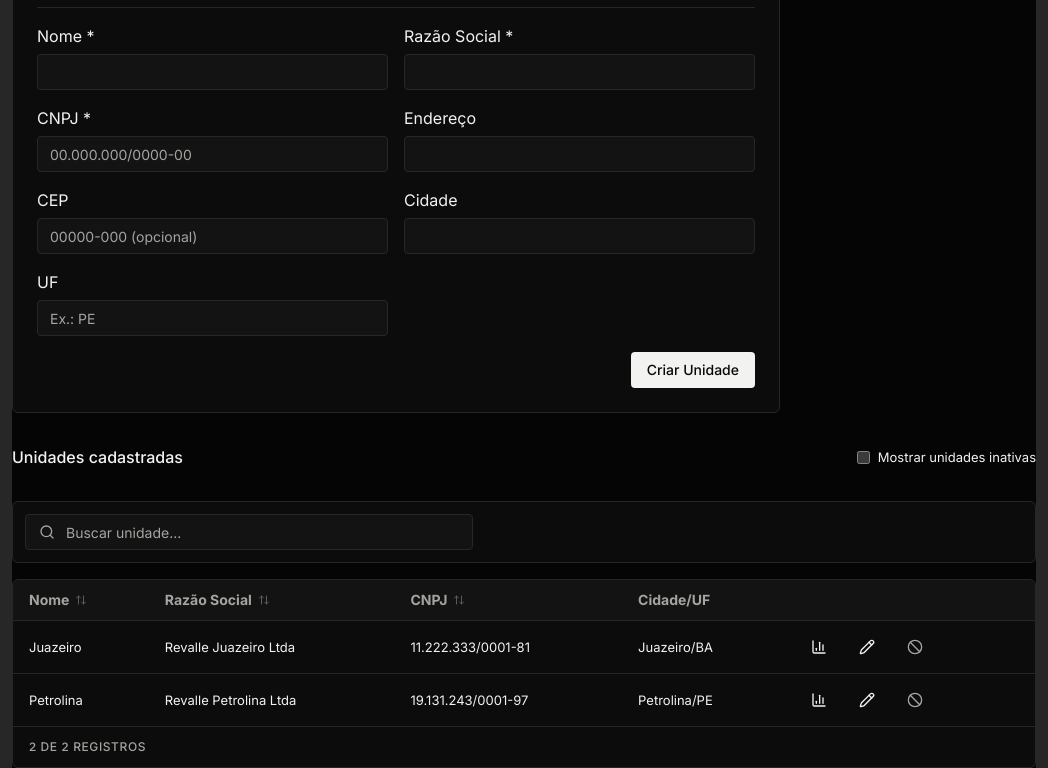
UnidadesPage — indicadores › unidade sem nenhuma movimentação mostra os indicadores zerados sem parecer erro
(page scrolled)
Click the button named "Indicadores da unidade Petrolina": click(818, 700) x1=798 y1=684 x2=838 y2=716
(page scrolled)
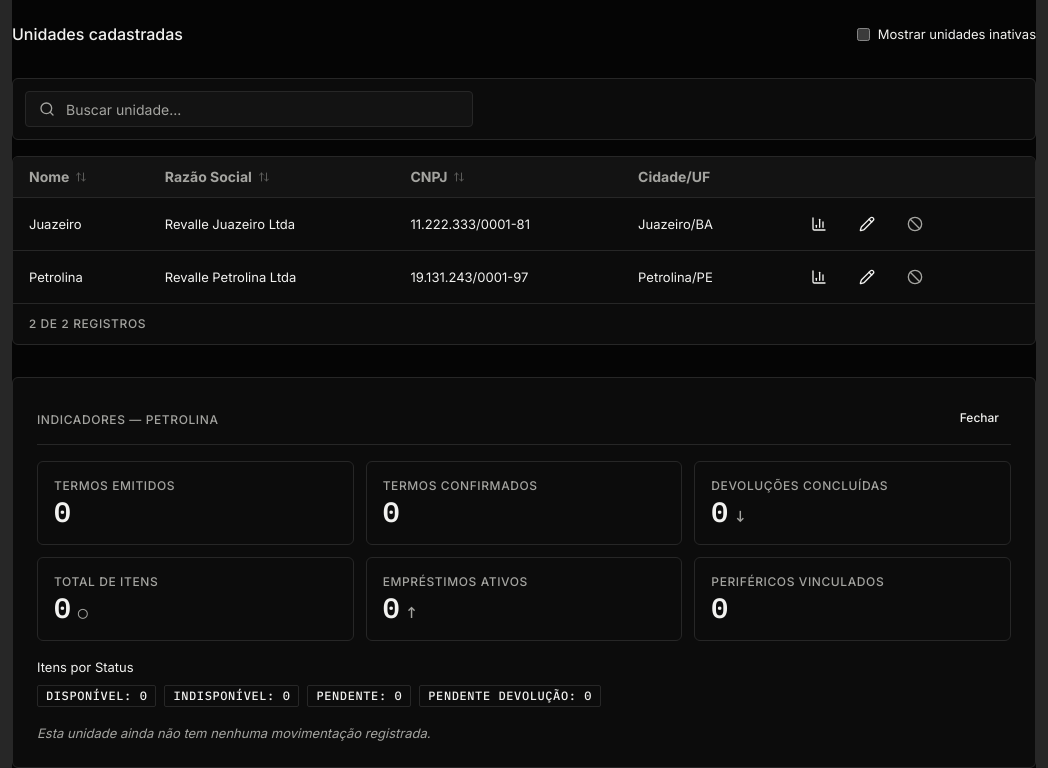
Result: the text "Esta unidade ainda não tem nenhuma movimentação registrada." is shown at x1=37 y1=725 x2=430 y2=741
Result: the text "Disponível: 0" is shown at x1=37 y1=685 x2=156 y2=707
